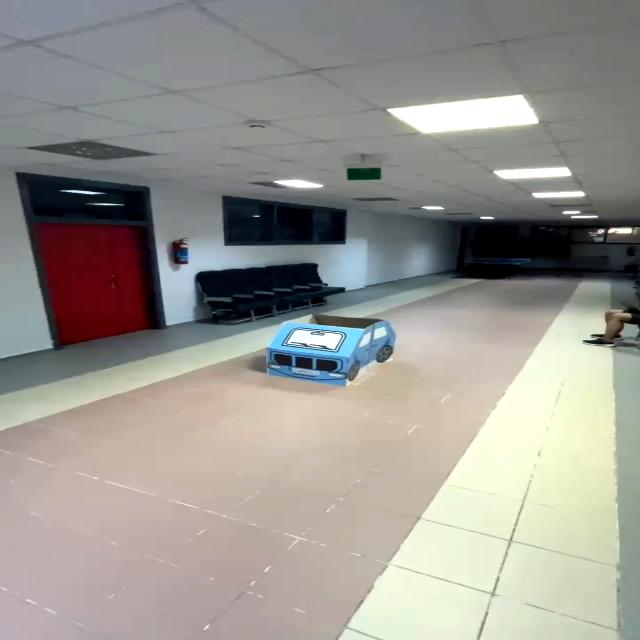blue_car: (238, 298, 414, 410)
